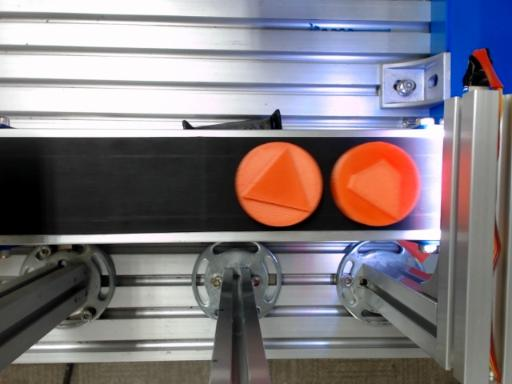Orange_Waper: (331, 142, 420, 226), (235, 142, 322, 226)
